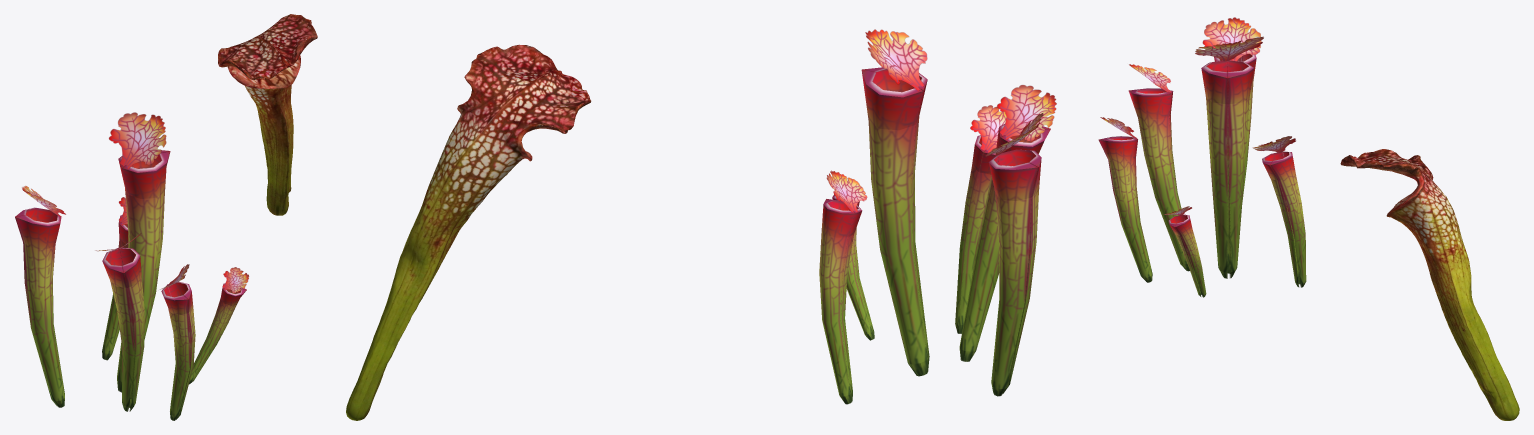
Rendered from pitcher.glb.
The picture shows the model from 3 angles, left to right: view 1: azimuth 30°, elevation 25°; view 2: azimuth 150°, elevation 25°; view 3: azimuth 270°, elevation 25°; orthographic projection. The views are drawn at different scales.
Parts seen in each view (by area): view 1: SM_Pitcherplant_CAO_Material #285_0, Object_2; view 2: SM_Pitcherplant_CAO_Material #285_0, Object_2; view 3: SM_Pitcherplant_CAO_Material #285_0, Object_2.
Part boxes in pixels (bbox=[...]): SM_Pitcherplant_CAO_Material #285_0: bbox=[15, 112, 248, 420]; Object_2: bbox=[218, 14, 317, 215]; SM_Pitcherplant_CAO_Material #285_0: bbox=[819, 29, 1056, 404]; Object_2: bbox=[346, 44, 591, 420]; SM_Pitcherplant_CAO_Material #285_0: bbox=[1098, 17, 1306, 297]; Object_2: bbox=[1340, 149, 1519, 420].
Bounding box in the file's own units: 1005 × 631 × 935.
Materials: 2 (2 with a texture image).
